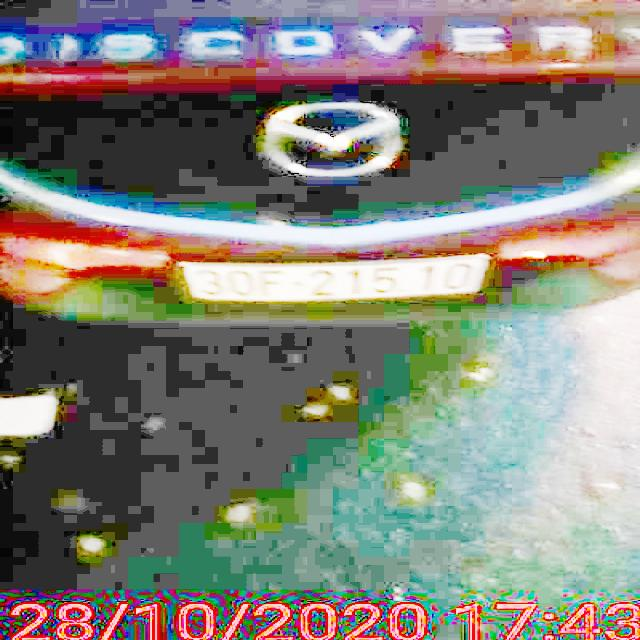license_plate: (184, 256, 483, 301)
